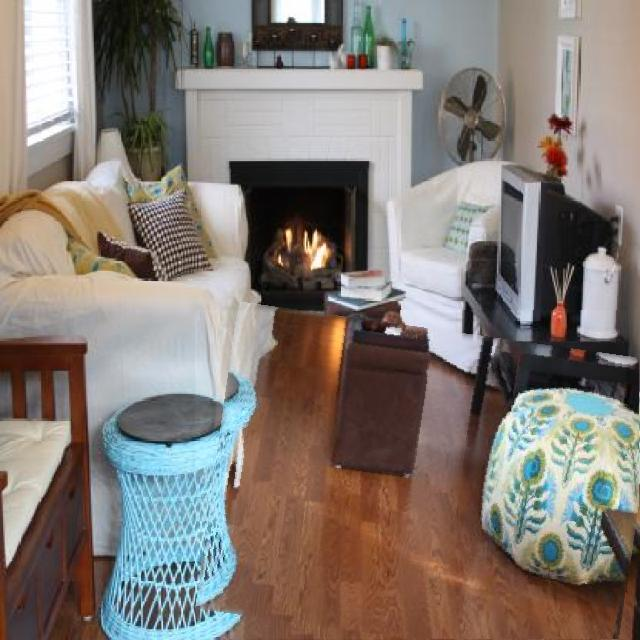floor: (196, 310, 626, 640)
